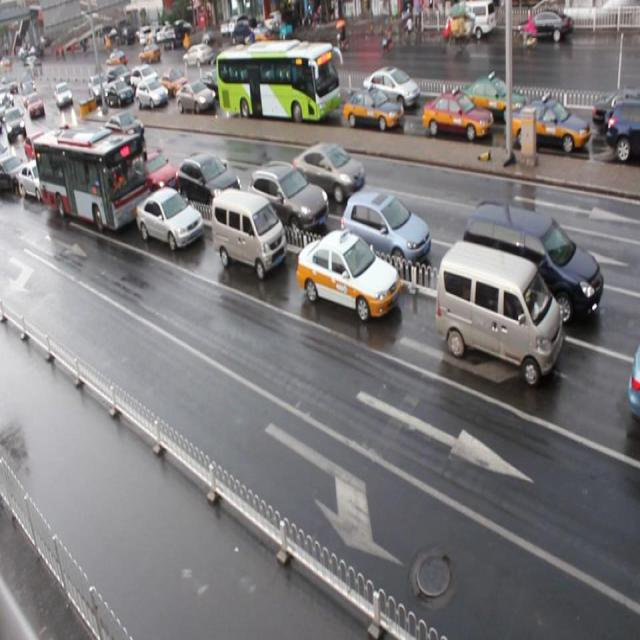car: (298, 228, 402, 322), (341, 191, 432, 275), (249, 161, 330, 234), (512, 98, 592, 156), (290, 139, 365, 200), (137, 186, 204, 250), (178, 151, 244, 212), (452, 74, 529, 124), (424, 92, 494, 140), (344, 84, 404, 133), (361, 64, 420, 110), (588, 88, 640, 136), (136, 146, 181, 194), (606, 97, 640, 159), (20, 158, 58, 202), (292, 66, 334, 102), (84, 133, 122, 172), (175, 82, 216, 116), (198, 69, 234, 104), (1, 152, 30, 194), (106, 112, 144, 144), (136, 78, 168, 108), (129, 64, 160, 92), (106, 78, 134, 106), (24, 133, 49, 162), (161, 70, 187, 94)
truck: (437, 240, 562, 388), (463, 197, 604, 328), (212, 188, 288, 278)
van: (35, 125, 154, 234), (216, 44, 340, 123)
